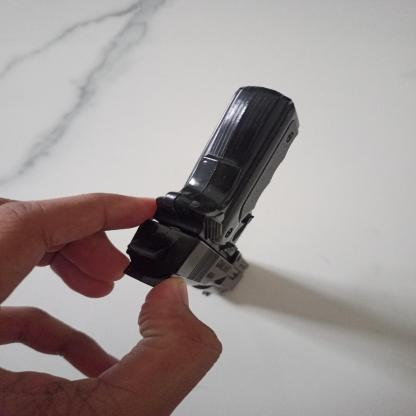handgun: (124, 86, 301, 296)
